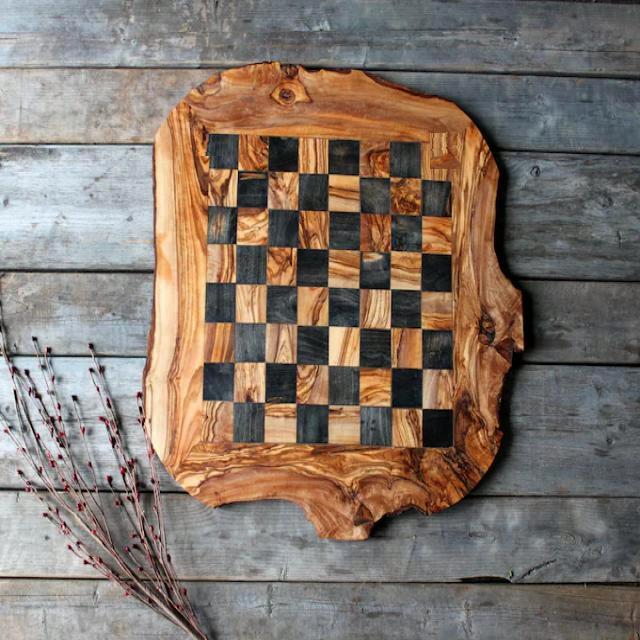chess-table-corners: (196, 118, 228, 156), (430, 133, 461, 169), (442, 432, 470, 462), (196, 428, 224, 458)
